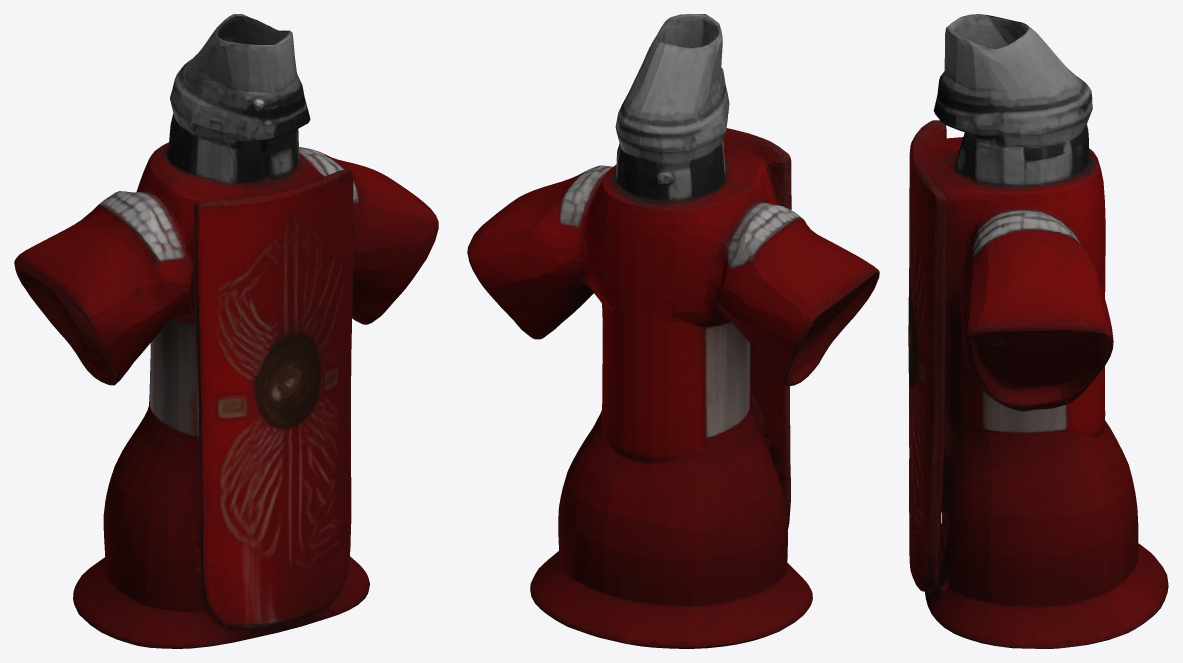
File: Soldier.glb
3 renders of one model, left to right at view 1: azimuth 30°, elevation 25°; view 2: azimuth 150°, elevation 25°; view 3: azimuth 270°, elevation 25°, orthographic. The views are drawn at different scales.
Visible parts, largest first — view 1: world; view 2: world; view 3: world.
Boxes of the visible parts, left/top/right/bottom form: world: left=14, top=14, right=438, bottom=648; world: left=467, top=14, right=879, bottom=648; world: left=908, top=14, right=1168, bottom=648.
Bounding box in the file's own units: 0.6642 × 0.9999 × 0.4175.
Materials: 1 (1 with a texture image).
